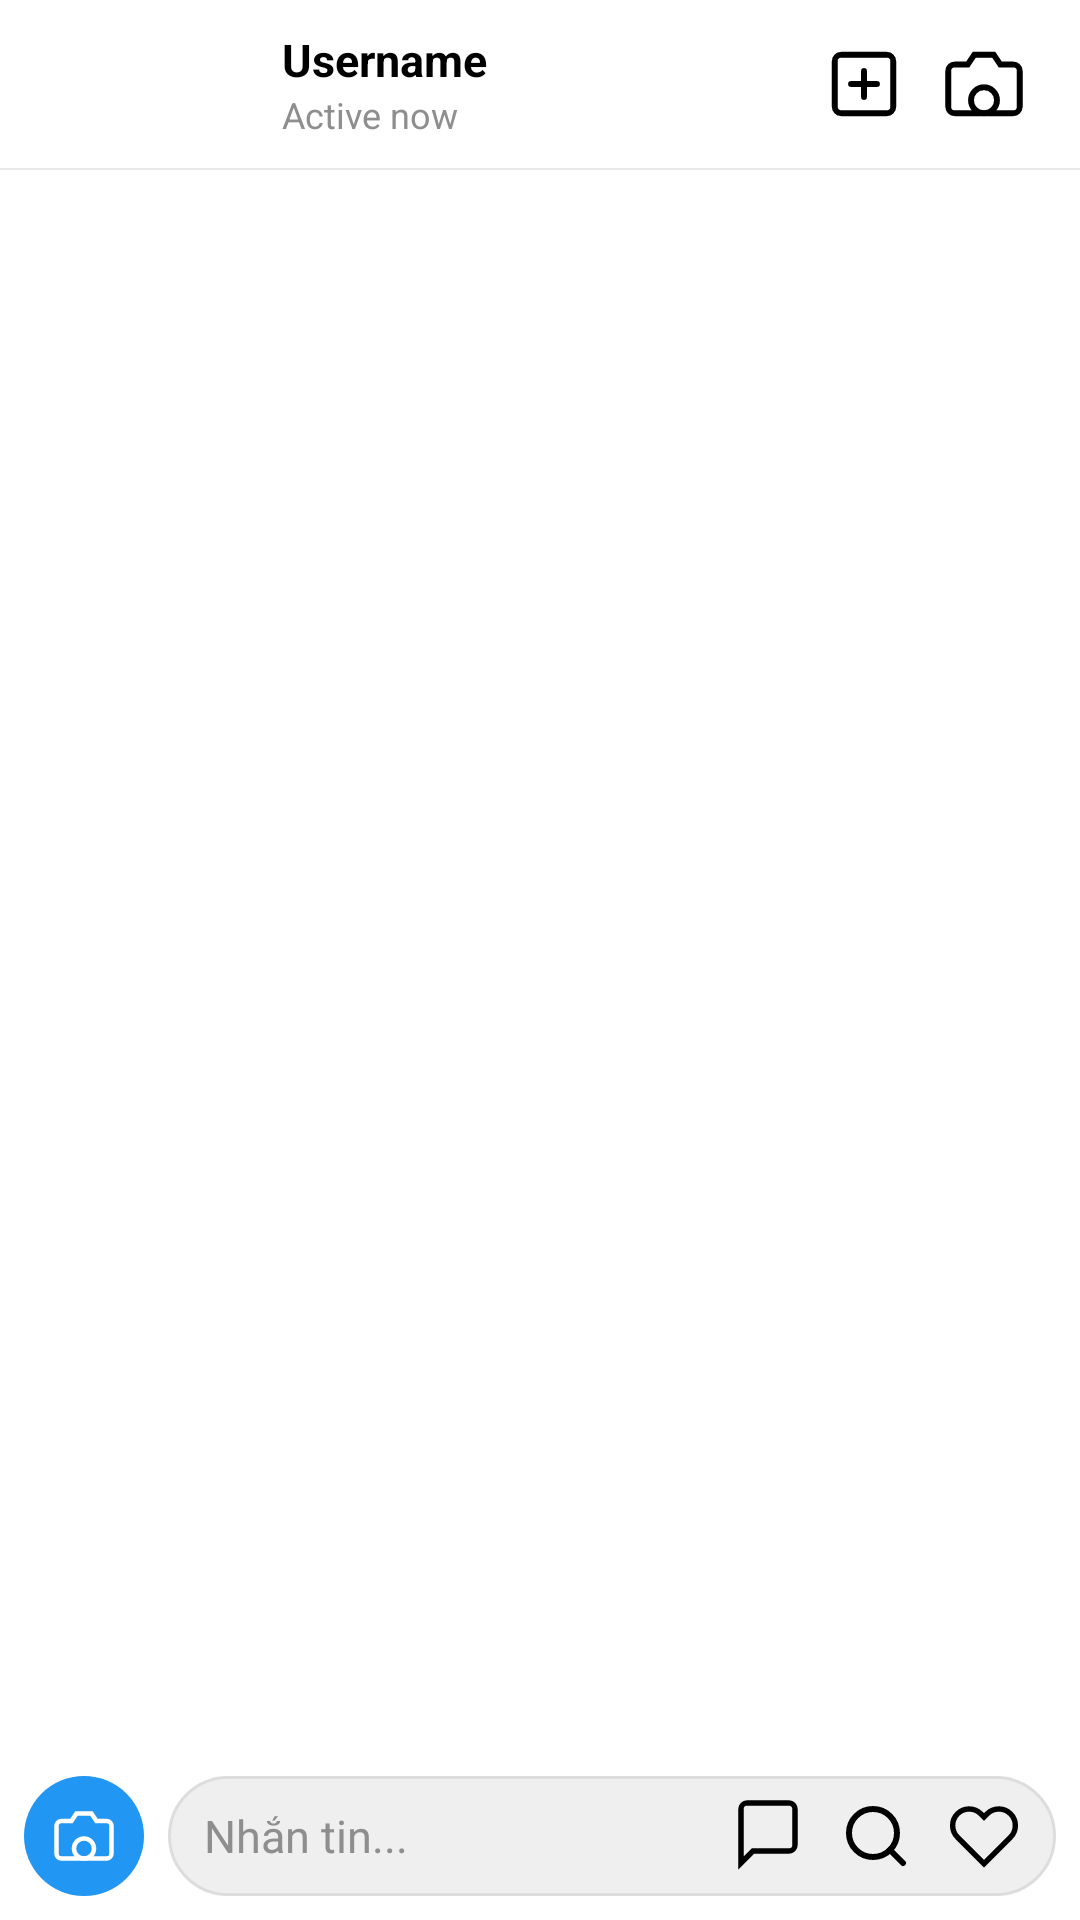

Point at icon controls on the screen. Image size 1080×1920, points as point (x, y).
comment: point (768, 1835)
heart: point (984, 1837)
search: point (876, 1836)
